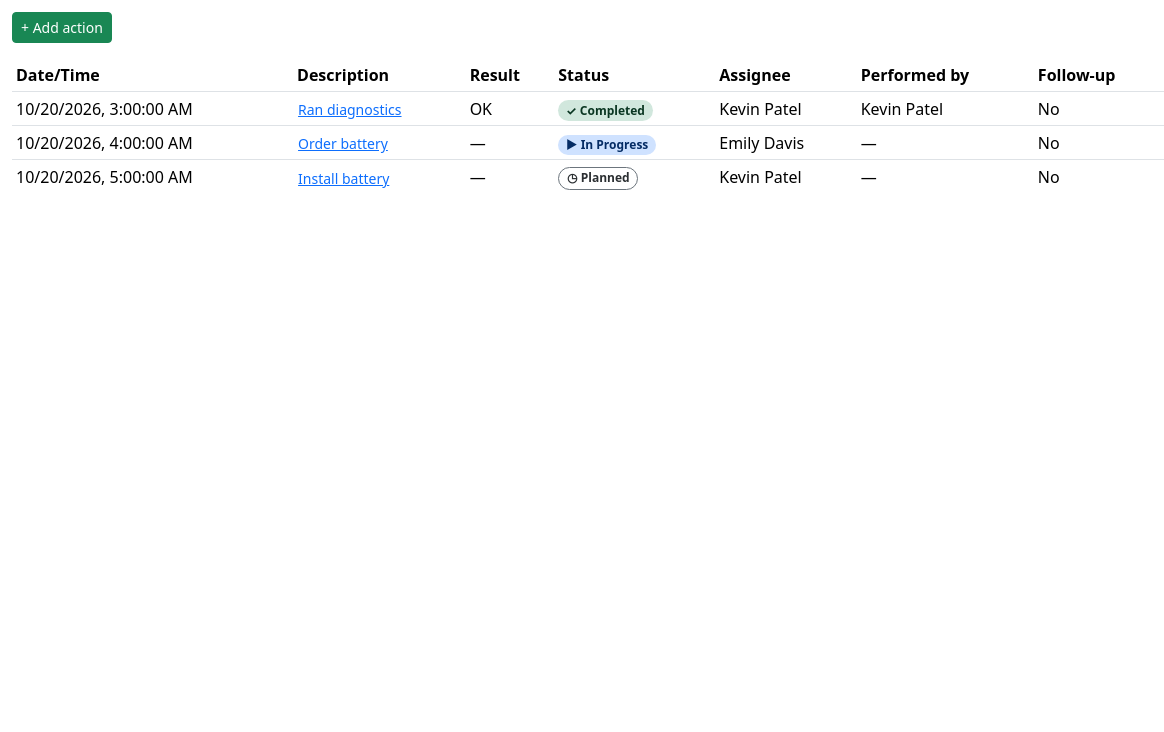
Test case: ActionsTaken panel › UI-10 completed actions are read-only
Click the button with aria-label "view action: ran diagnostics": (350, 110) x1=297 y1=98 x2=403 y2=121
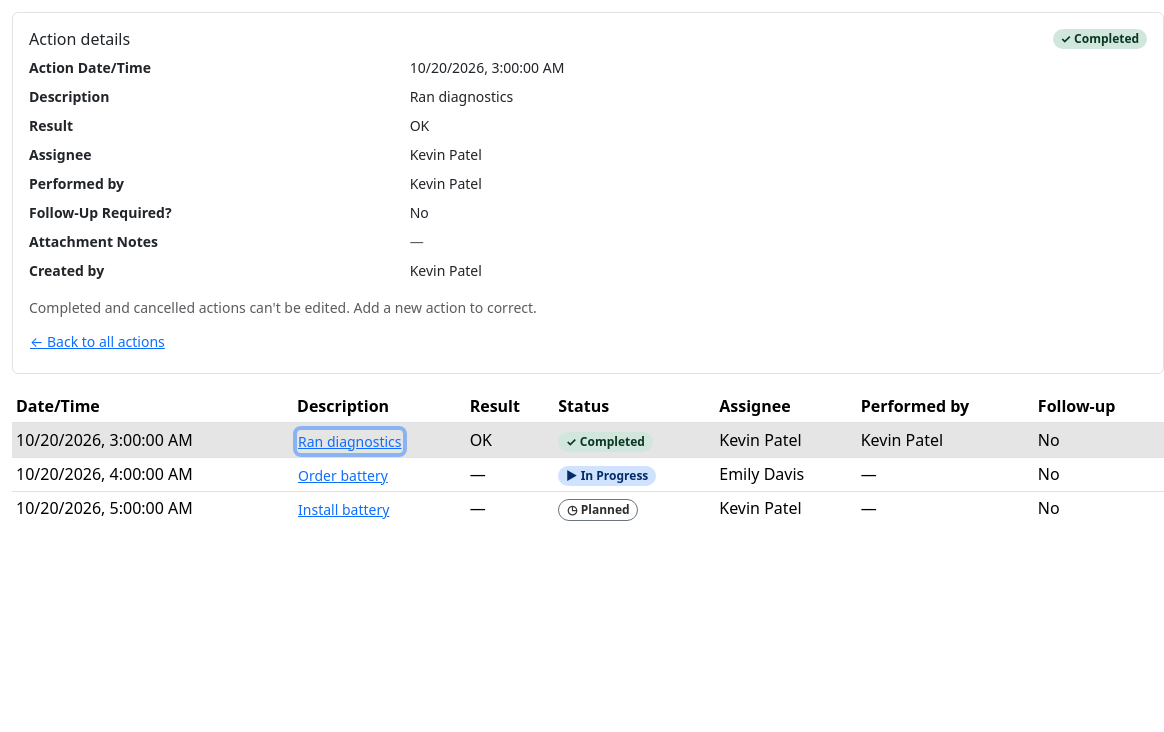
Now the text "can't be edited" is shown, box x1=29 y1=298 x2=537 y2=317
